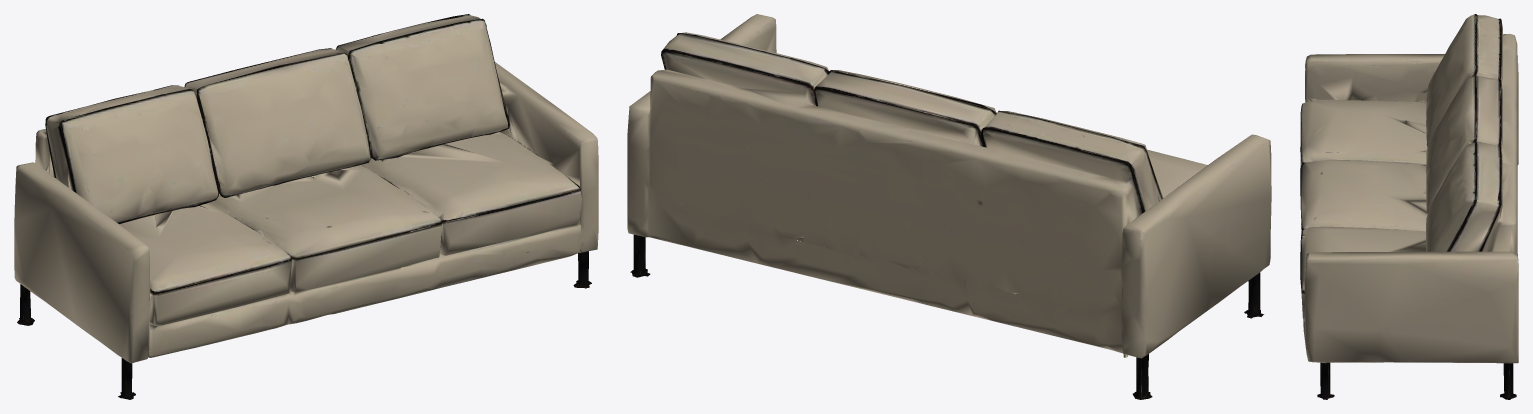
Rendered from pqBpWwIg94j9frtGD72cs.glb.
3 renders of one model, left to right at view 1: azimuth 30°, elevation 25°; view 2: azimuth 150°, elevation 25°; view 3: azimuth 270°, elevation 25°, orthographic. The views are drawn at different scales.
Visible parts, largest first — view 1: geometry_0; view 2: geometry_0; view 3: geometry_0.
Boxes of the visible parts, left/top/right/bottom form: geometry_0: left=14, top=14, right=598, bottom=399; geometry_0: left=627, top=14, right=1271, bottom=399; geometry_0: left=1300, top=14, right=1518, bottom=399.
Bounding box in the file's own units: 0.9991 × 0.4274 × 0.4427.
1 material, 1 textured.
